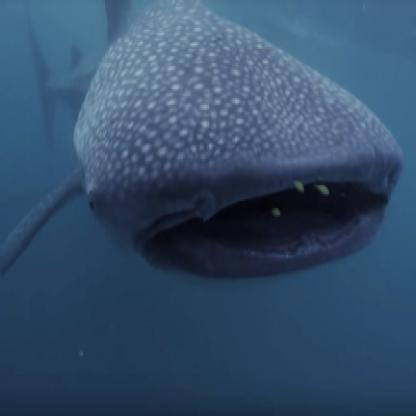Shark -Selachimorpha-: (1, 1, 407, 279)
